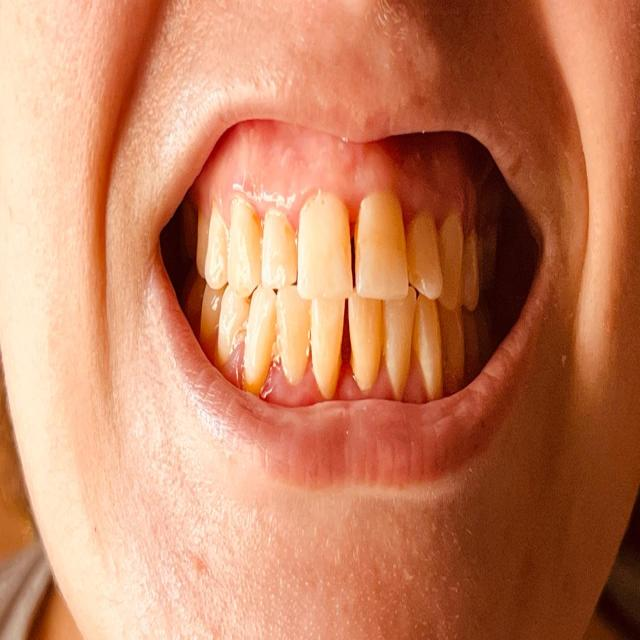tooth: (300, 211, 350, 288), (363, 203, 405, 294), (308, 292, 344, 398), (352, 293, 382, 387), (277, 286, 306, 380), (409, 220, 443, 294), (248, 291, 272, 385), (232, 205, 258, 290), (416, 298, 440, 385), (265, 215, 295, 282), (390, 297, 410, 395), (443, 305, 465, 381), (218, 298, 244, 362), (443, 221, 460, 304), (212, 214, 228, 288), (463, 238, 479, 307), (204, 284, 218, 340)
